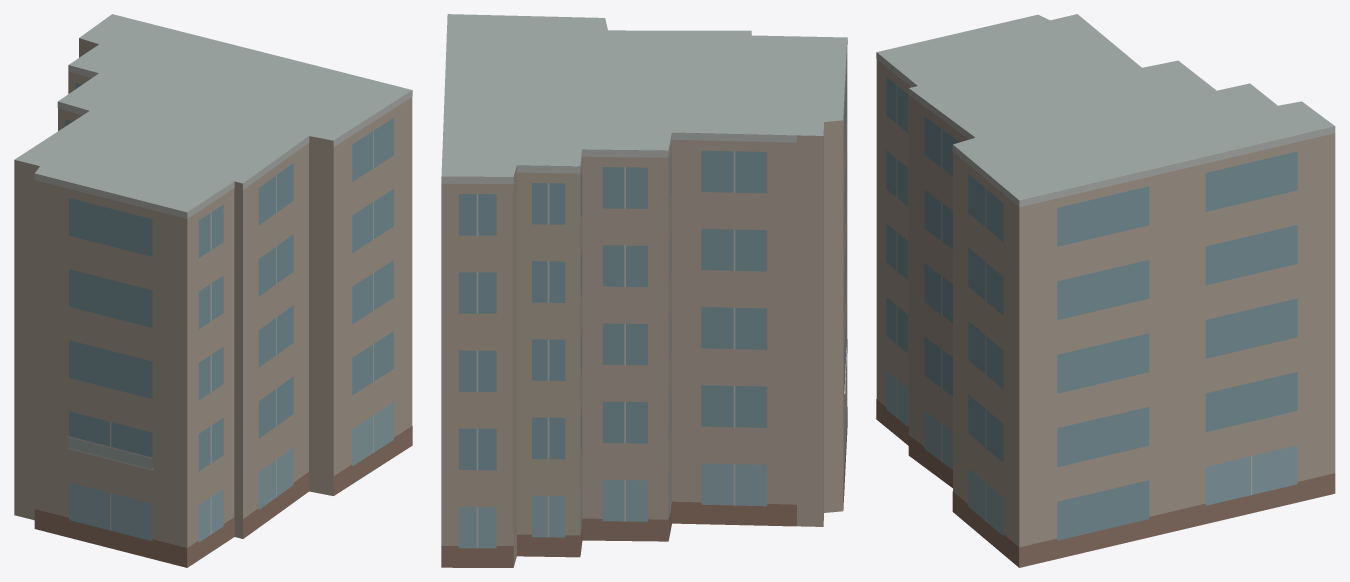
File: survey-upis-33023666.glb
3 views of the same model, side by side, from view 1: azimuth 30°, elevation 25°; view 2: azimuth 150°, elevation 25°; view 3: azimuth 270°, elevation 25° (orthographic). The views are drawn at different scales.
Visible parts, largest first — view 1: survey-upis-33023666.tmp; view 2: survey-upis-33023666.tmp; view 3: survey-upis-33023666.tmp.
Part boxes in pixels (<box>): survey-upis-33023666.tmp: <box>14,14,412,567</box>; survey-upis-33023666.tmp: <box>441,14,847,567</box>; survey-upis-33023666.tmp: <box>876,14,1335,567</box>.
Bounding box in the file's own units: 14.25 × 13.07 × 14.81.
